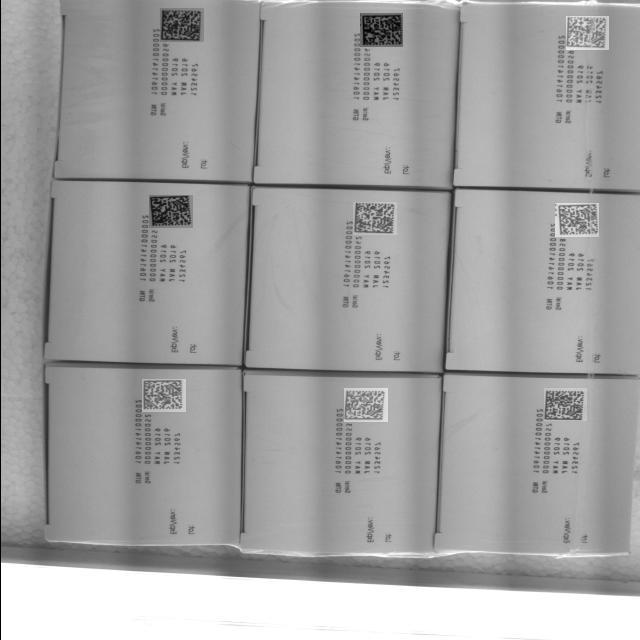Data-Matrix: (554, 203, 598, 237), (343, 388, 387, 422), (159, 8, 203, 42), (565, 16, 608, 50), (359, 13, 402, 47), (352, 202, 396, 235), (148, 195, 192, 228), (141, 379, 185, 412), (543, 388, 586, 421)
